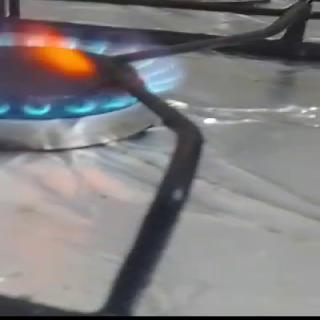fire: (0, 13, 193, 124)
